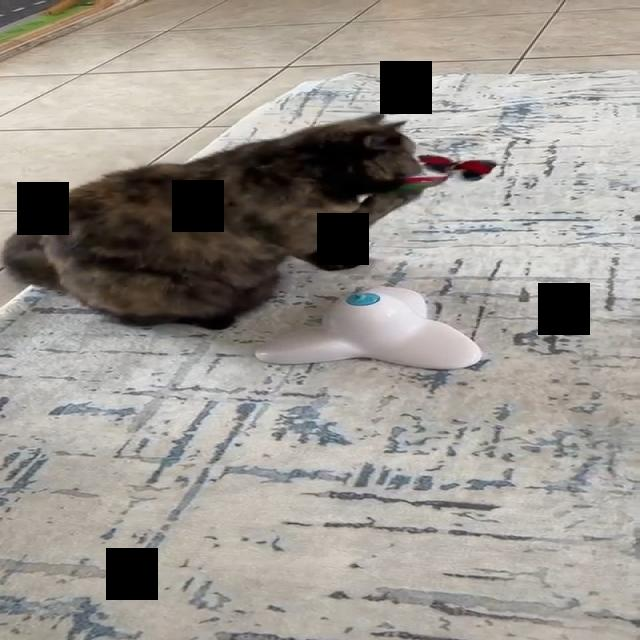authorized: (0, 110, 445, 330)
